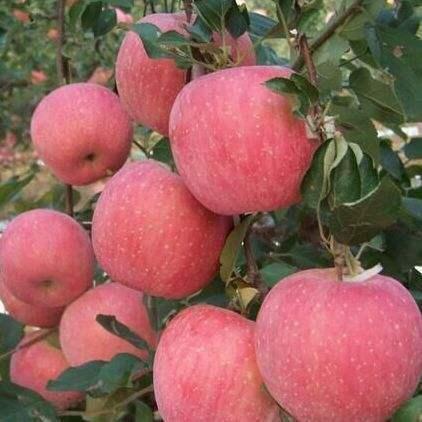apple: (258, 266, 421, 420), (167, 72, 321, 215), (94, 160, 232, 296), (148, 301, 282, 420), (30, 82, 132, 187), (1, 208, 94, 311)
